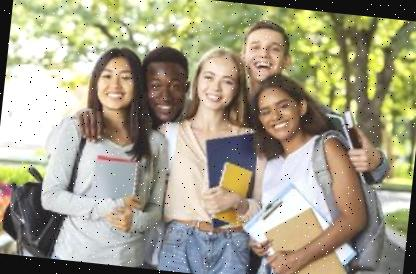bag: (302, 120, 407, 274), (0, 149, 83, 260)
person: (34, 36, 176, 269), (228, 65, 379, 274), (149, 38, 276, 274)
